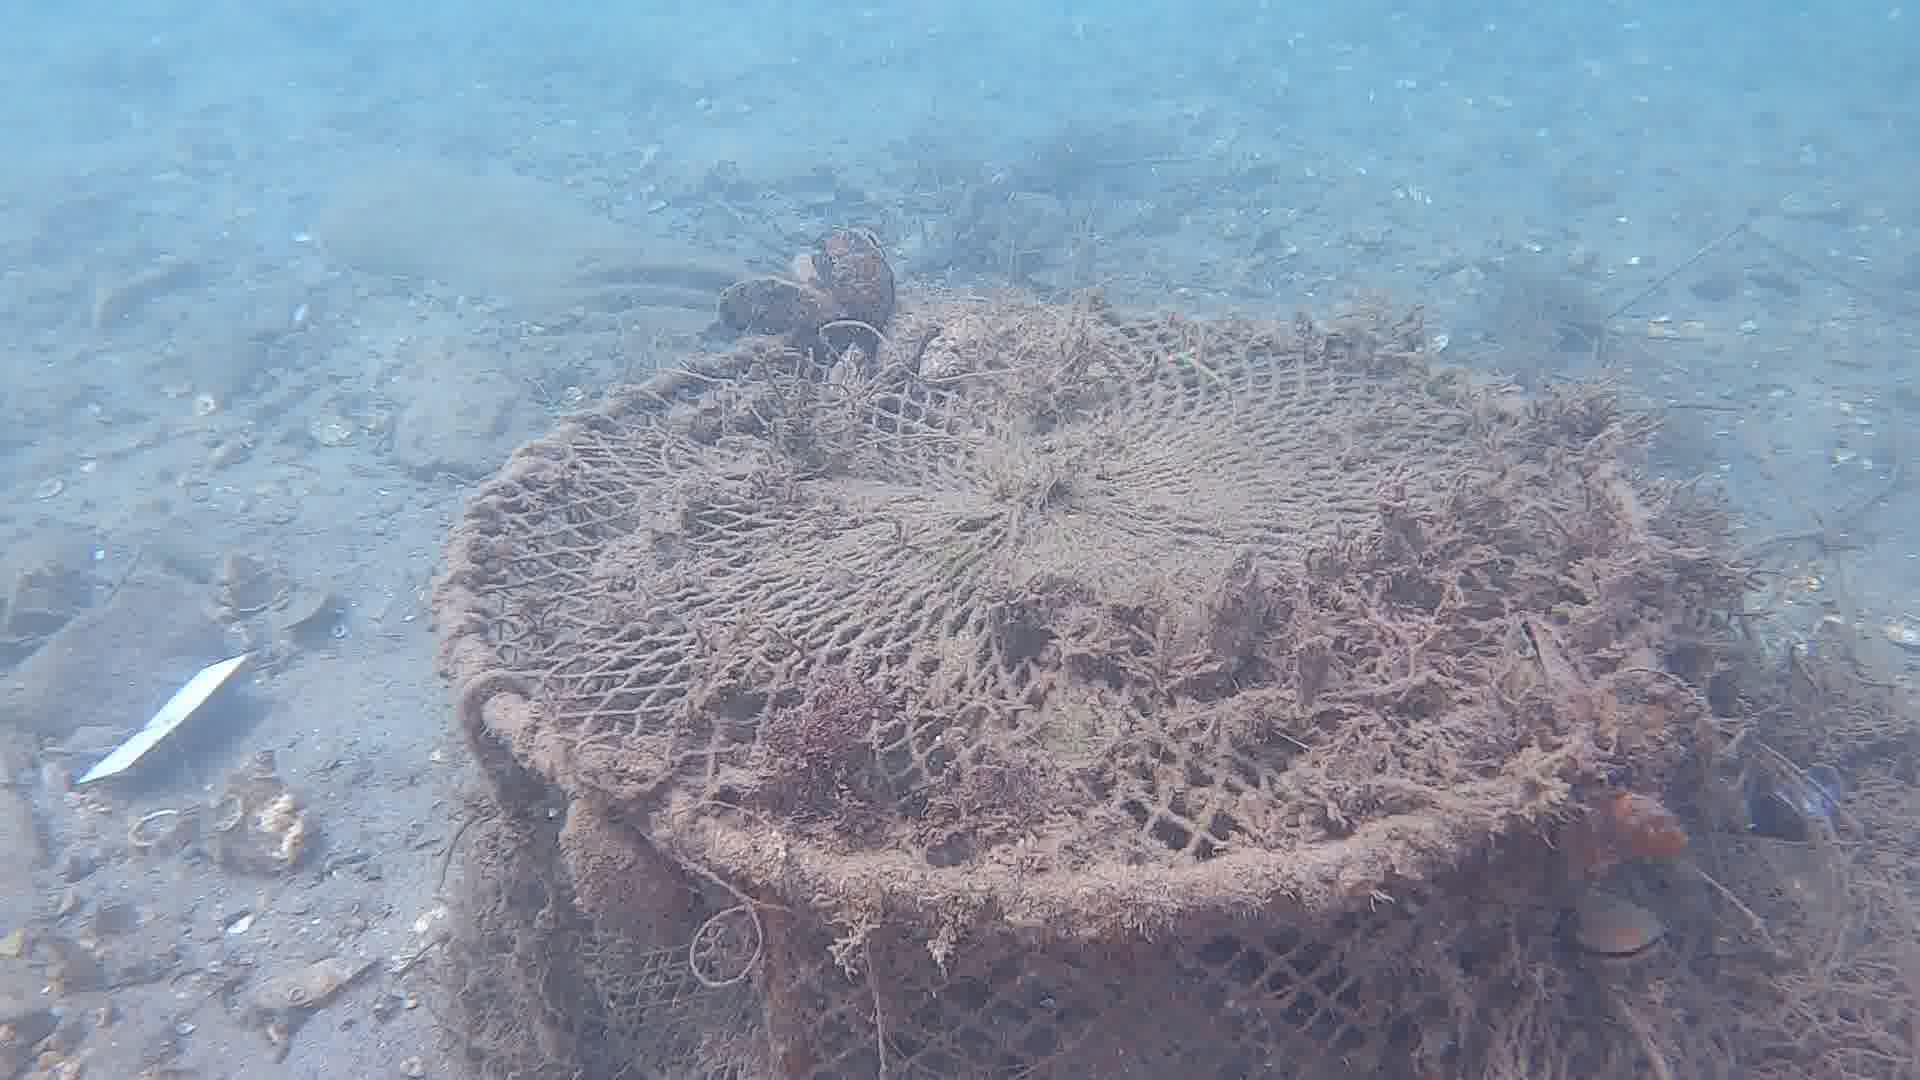circular fish trap: (436, 295, 1660, 1080)
